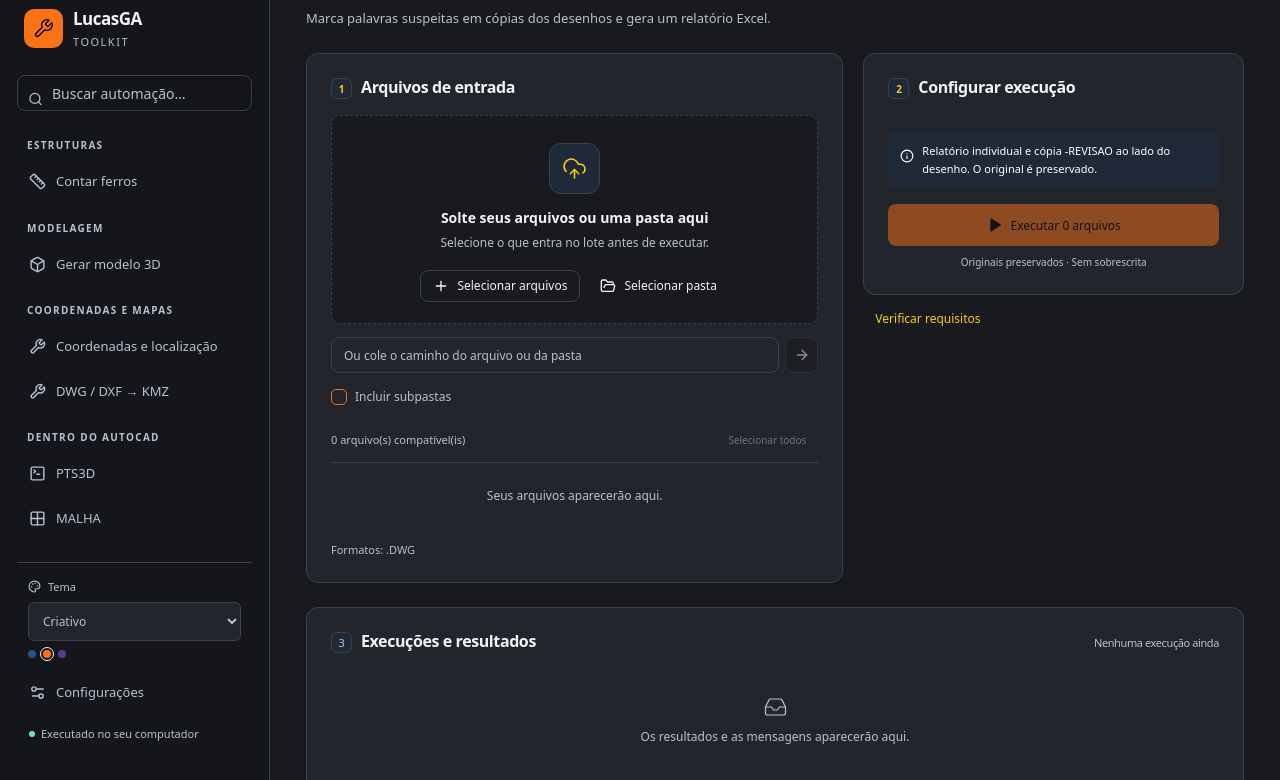
Test: ferramentas manuais mostram instruções e não oferecem execução
The image size is (1280, 780).
(page scrolled)
Click the button "PTS3D" at (134, 474), box [17, 453, 252, 494]
(page scrolled)
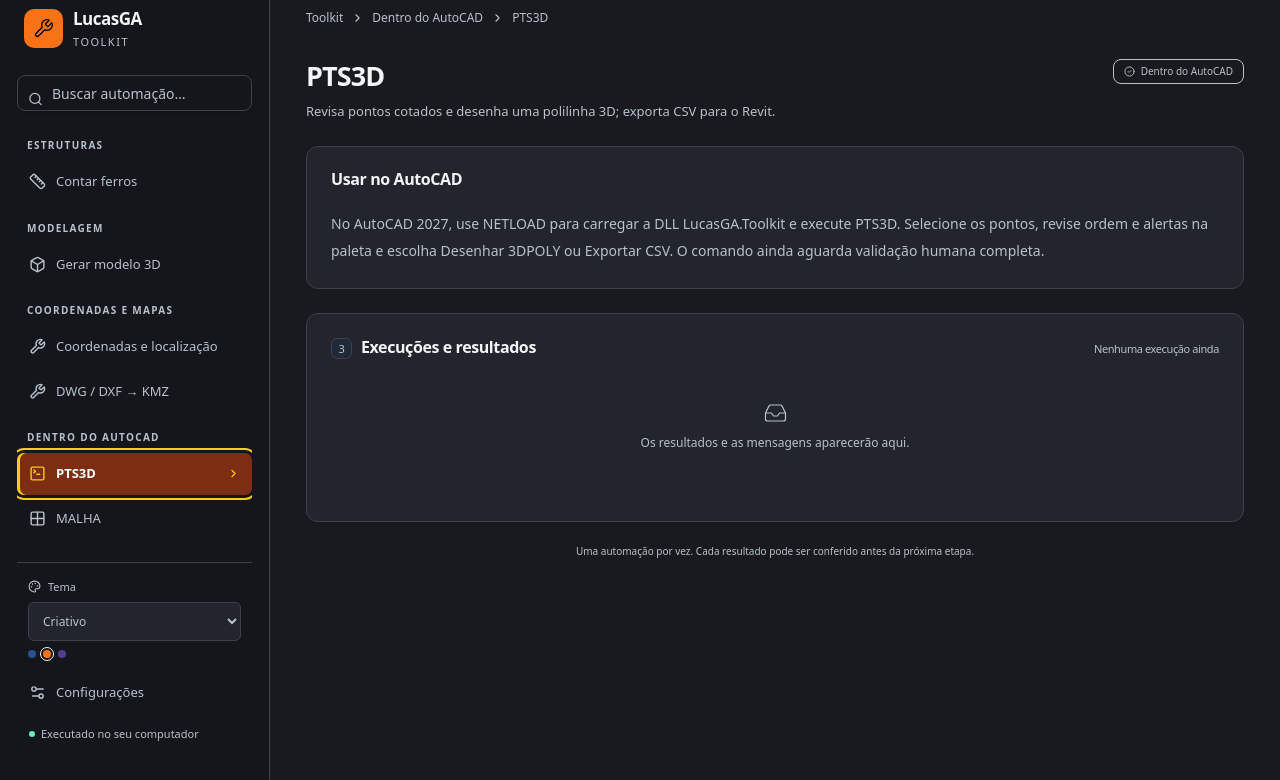
Expected: the text "use NETLOAD" is shown, [331, 214, 1208, 260]
Expected: the button "Executar 0 arquivos" is gone
